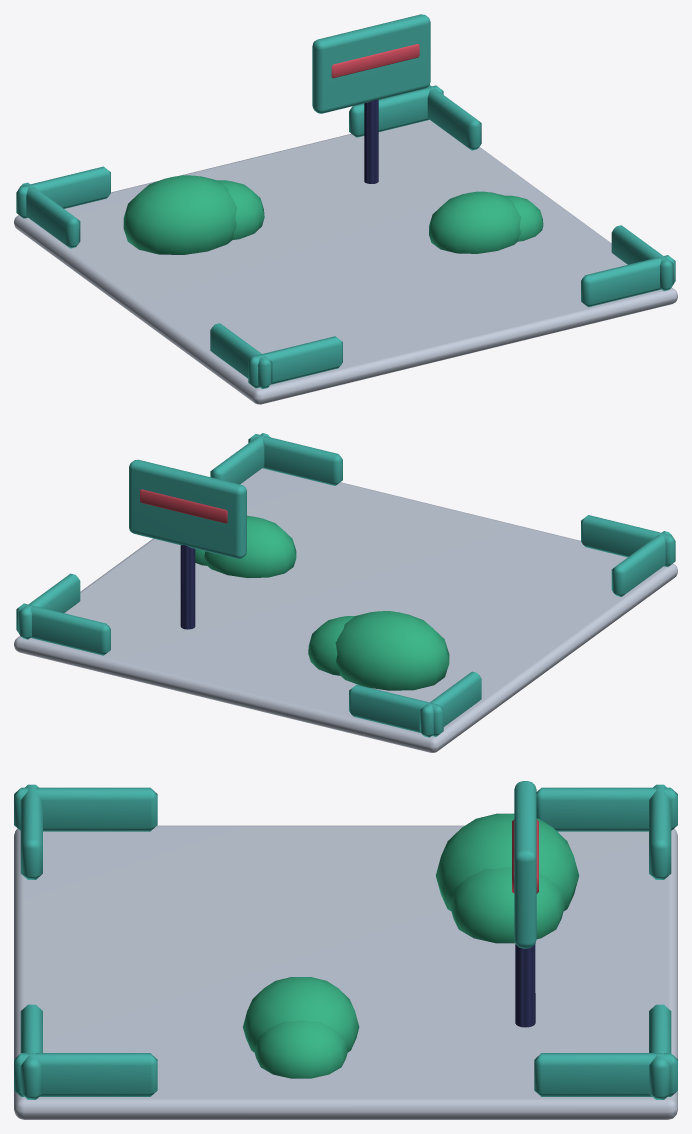
File: lot.glb
3 renders of one model, top to bottom at view 1: azimuth 30°, elevation 25°; view 2: azimuth 150°, elevation 25°; view 3: azimuth 270°, elevation 25°, orthographic. The views are drawn at different scales.
Parts seen in each view (by area): view 1: Cube; view 2: Cube; view 3: Cube.
Part boxes in pixels (x1,y1,x2,y2): Cube: (14, 14, 677, 404); Cube: (14, 433, 677, 752); Cube: (14, 781, 677, 1119).
Size of the model in its own units: 0.74 by 0.296 by 0.74.
